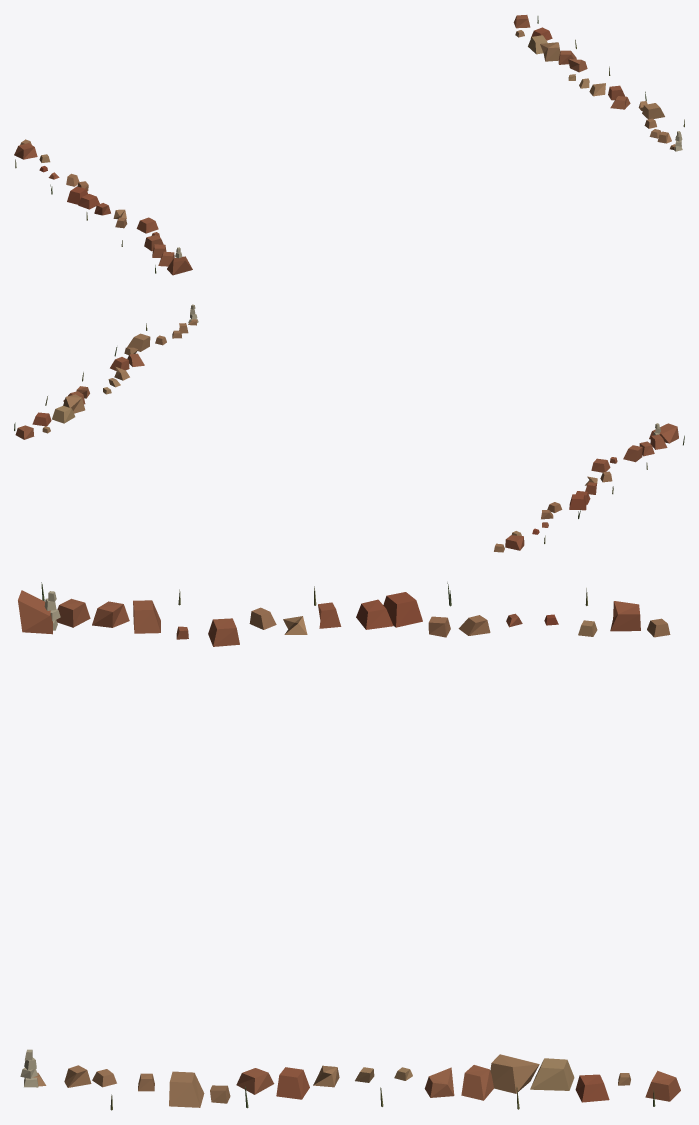
The model's file is mesa_lip_kicker_24x6x36_detail1.glb.
The picture shows the model from 3 angles, top to bottom: view 1: azimuth 30°, elevation 25°; view 2: azimuth 150°, elevation 25°; view 3: azimuth 270°, elevation 25°; orthographic projection. The views are drawn at different scales.
Parts seen in each view (by area): view 1: mesa_lip_kicker_24x6x36_detail1; view 2: mesa_lip_kicker_24x6x36_detail1; view 3: mesa_lip_kicker_24x6x36_detail1.
Part boxes in pixels (bbox=[...]): mesa_lip_kicker_24x6x36_detail1: bbox=[14, 15, 684, 275]; mesa_lip_kicker_24x6x36_detail1: bbox=[14, 304, 684, 552]; mesa_lip_kicker_24x6x36_detail1: bbox=[18, 582, 680, 1110].
Bounding box in the file's own units: 42.7 × 1.33 × 23.53.
